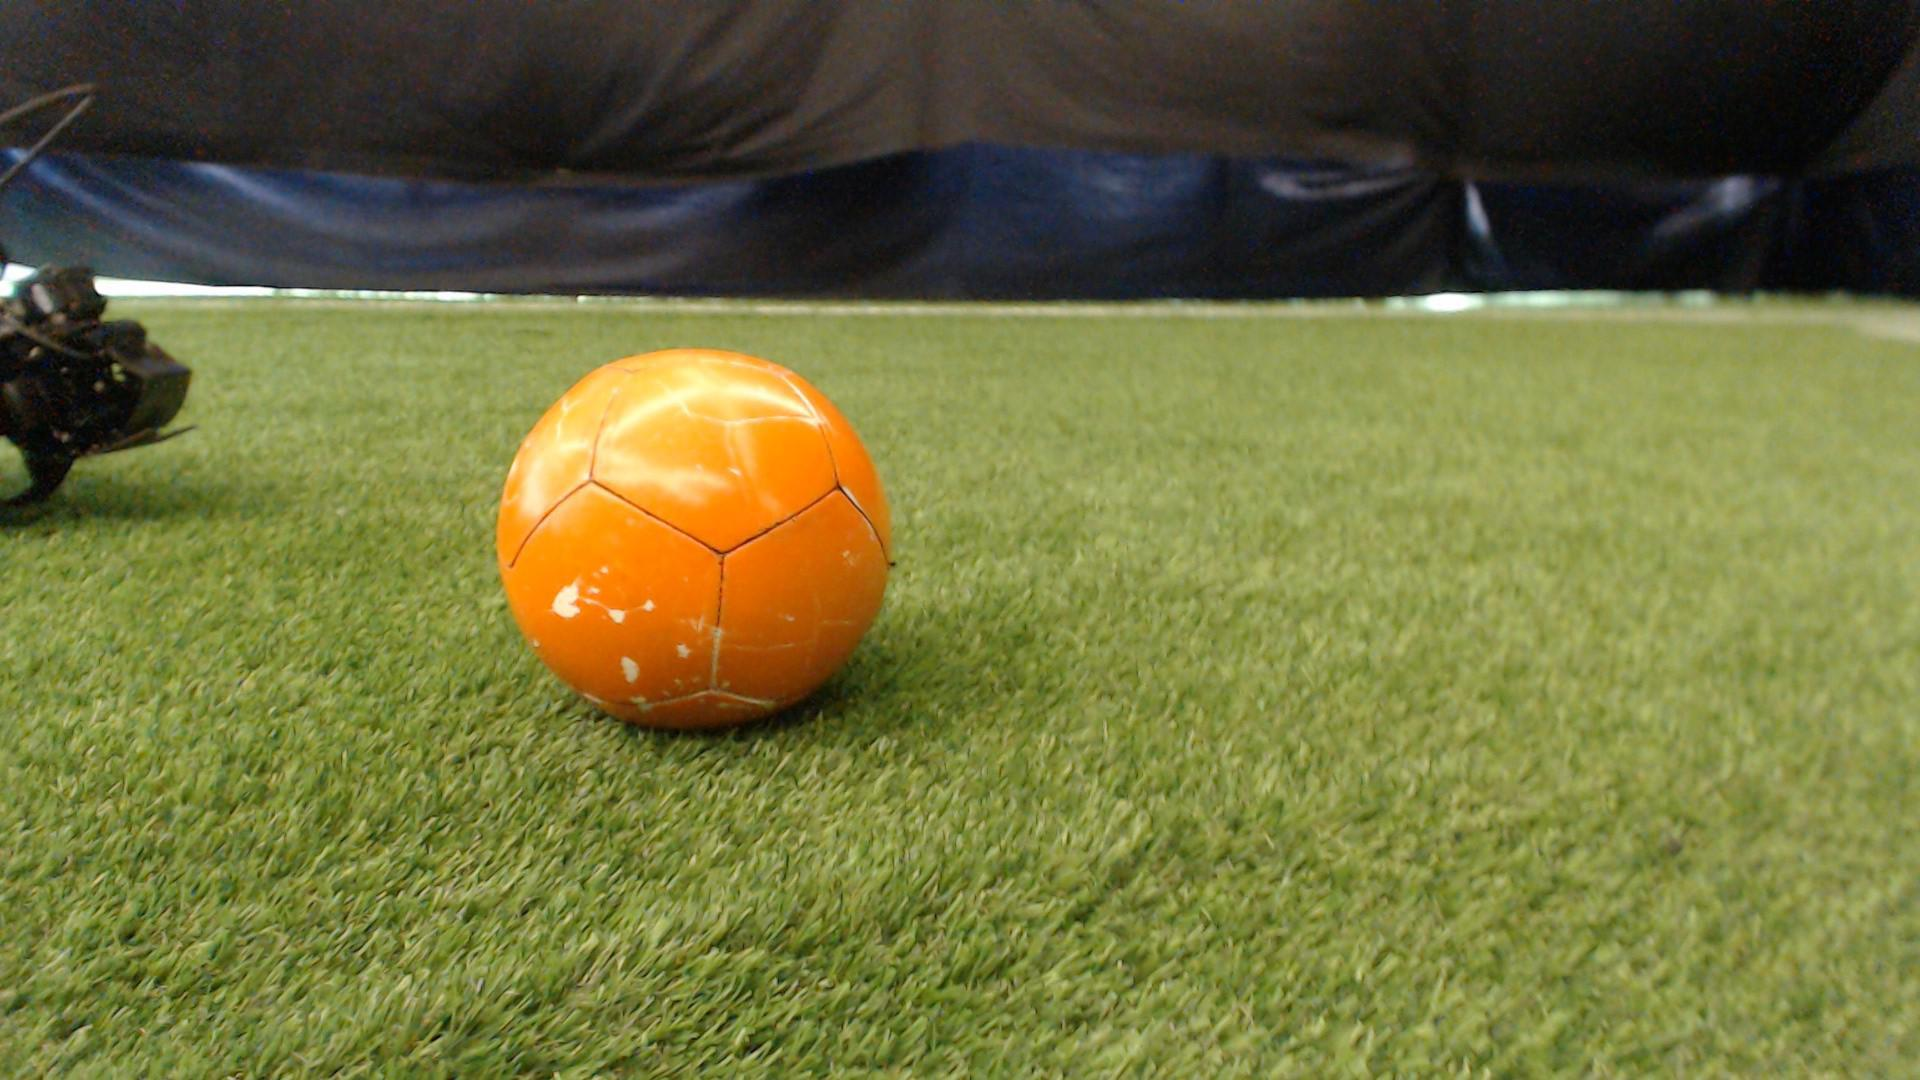bola: (484, 319, 923, 756)
